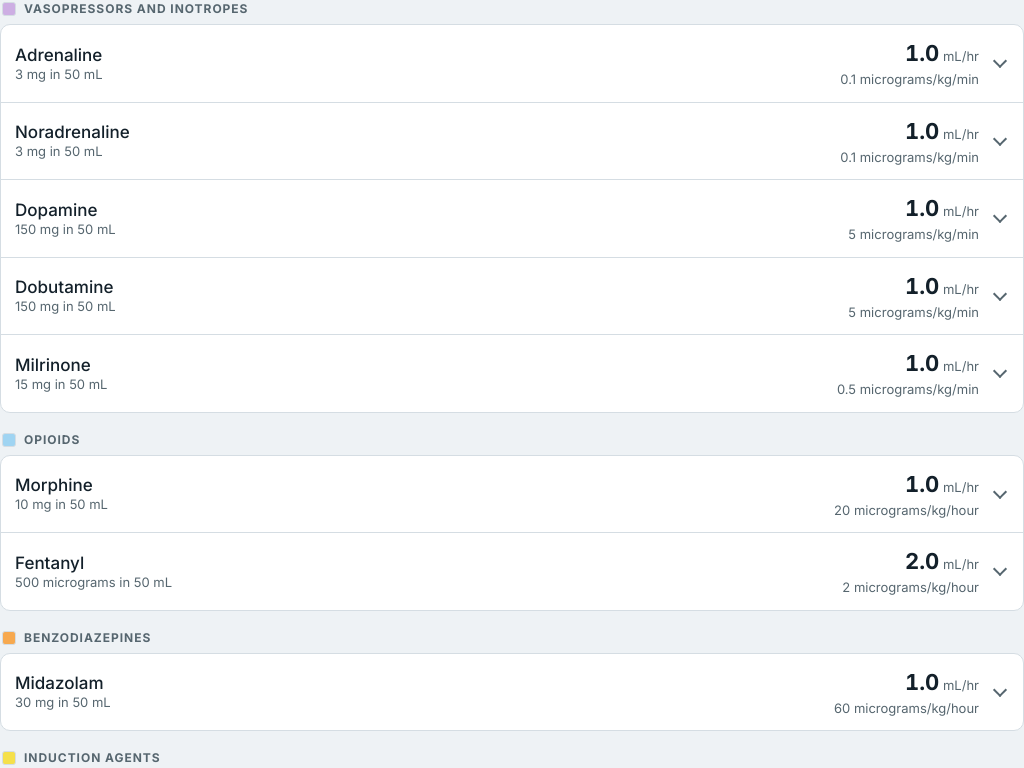
Test: an open row › shows how to make up the syringe, one row at a time
Click the button "Adrenaline 3 mg in 50 mL 1.0 mL/hr 0.1 micrograms/kg/min" at (59, 54), box [1,25,1023,102]
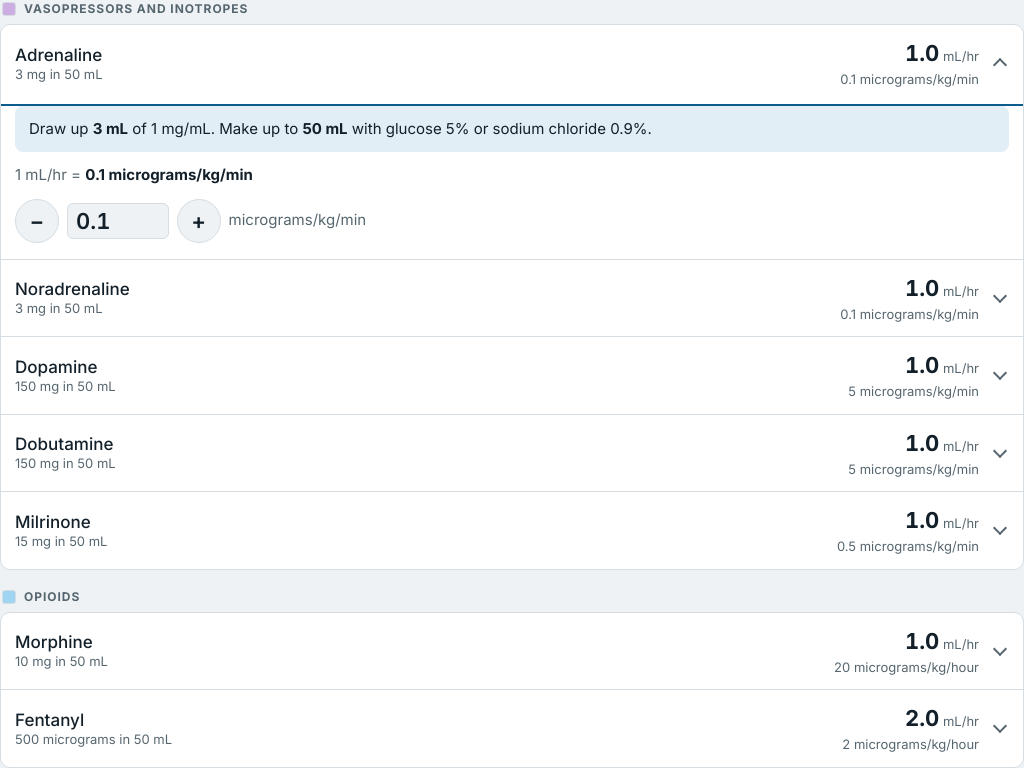
Now the button "Adrenaline 3 mg in 50 mL 1.0 mL/hr 0.1 micrograms/kg/min" is expanded, box [1,25,1023,102]
Now the text "Draw up" shows "Draw up 3 mL of 1 mg/mL. Make up to 50 mL with glucose 5% or sodium chloride 0.9%.", box [15,106,1009,152]
Now the text "1 mL/hr = 0.1 micrograms/kg/min" is shown, box [15,165,253,184]
Click the button "Noradrenaline 3 mg in 50 mL 1.0 mL/hr 0.1 micrograms/kg/min" at (72, 289), box [1,260,1023,336]
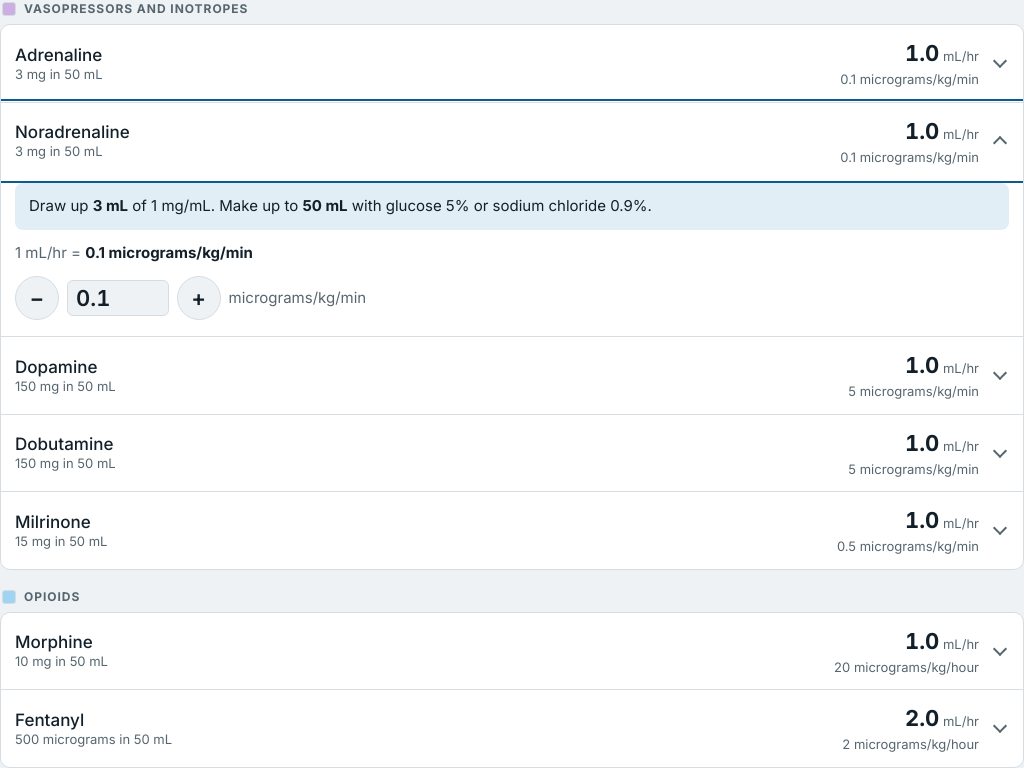
Now the button "Adrenaline 3 mg in 50 mL 1.0 mL/hr 0.1 micrograms/kg/min" is collapsed, box [1,25,1023,102]
